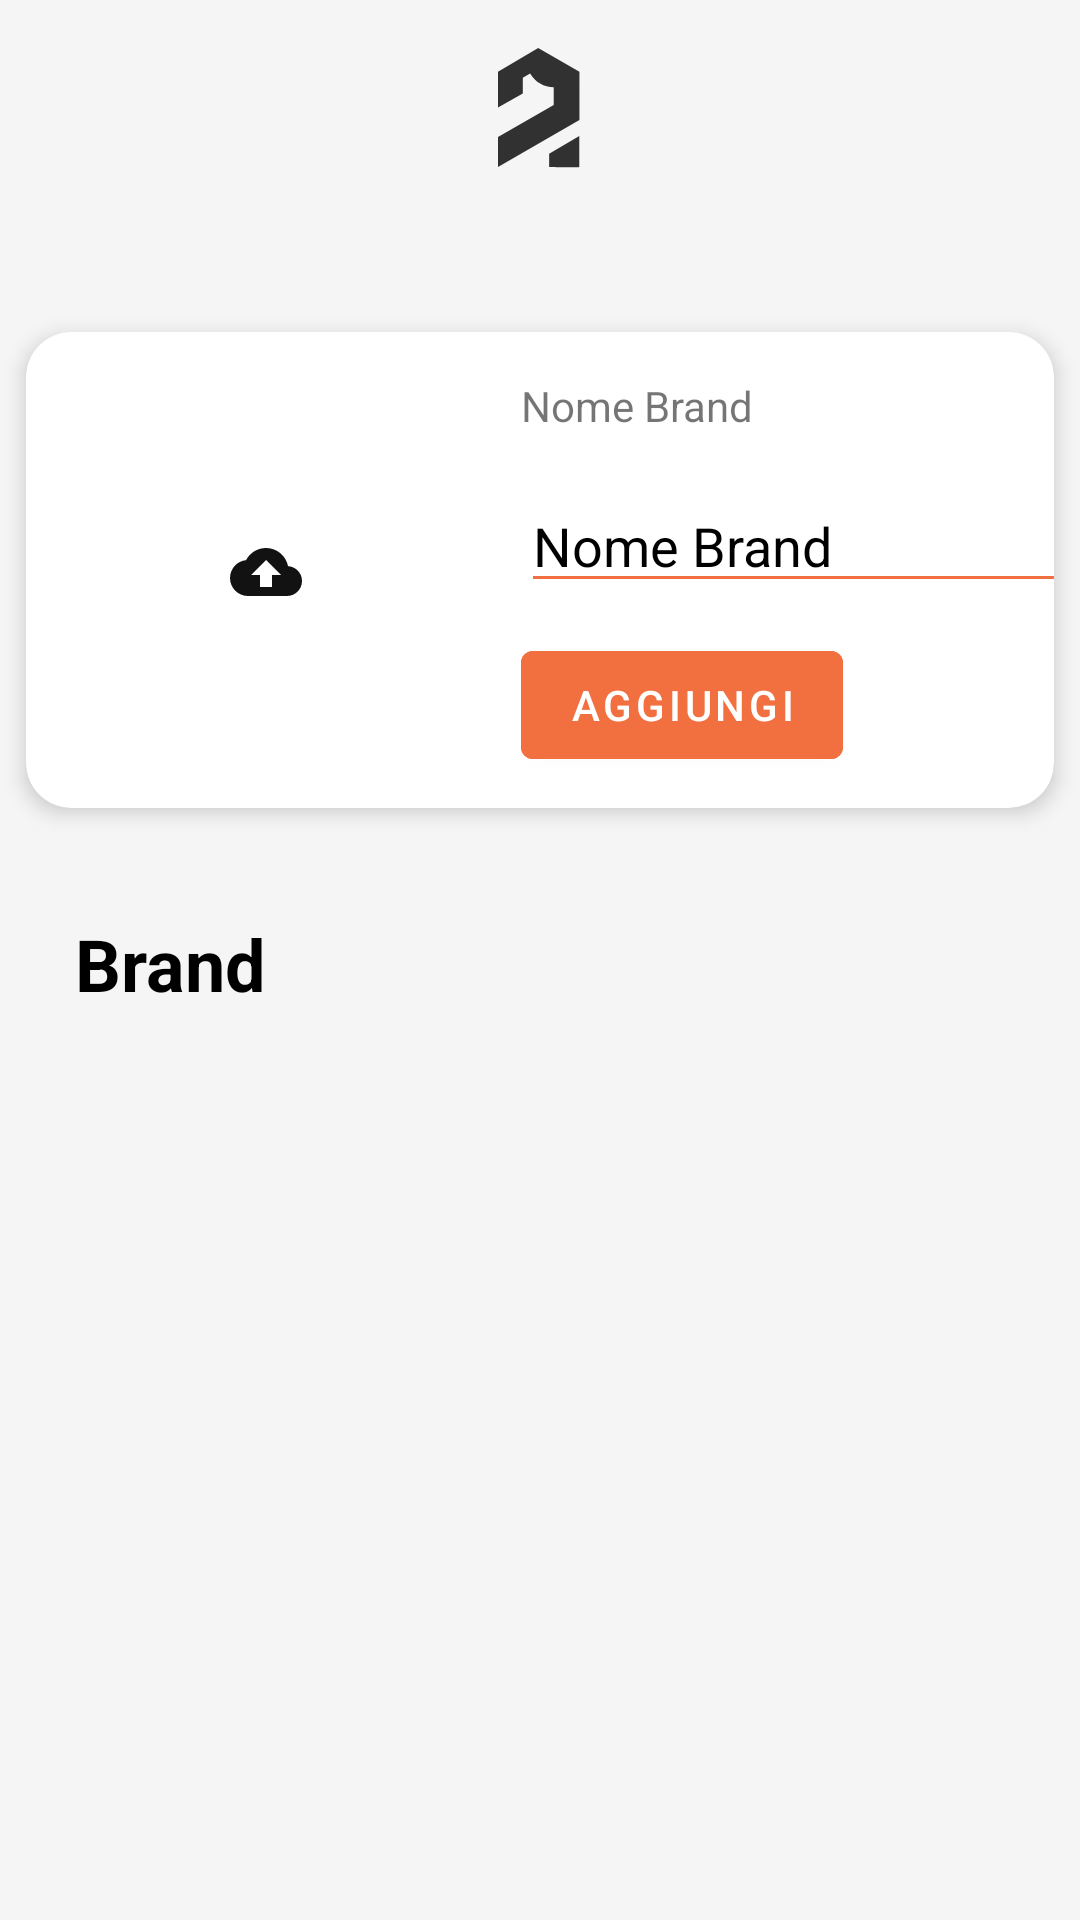

Where icons sit on this 1080px x 1920px app screen, as (x1, y1, x2, y2):
cloud upload: (230, 548, 302, 596)
